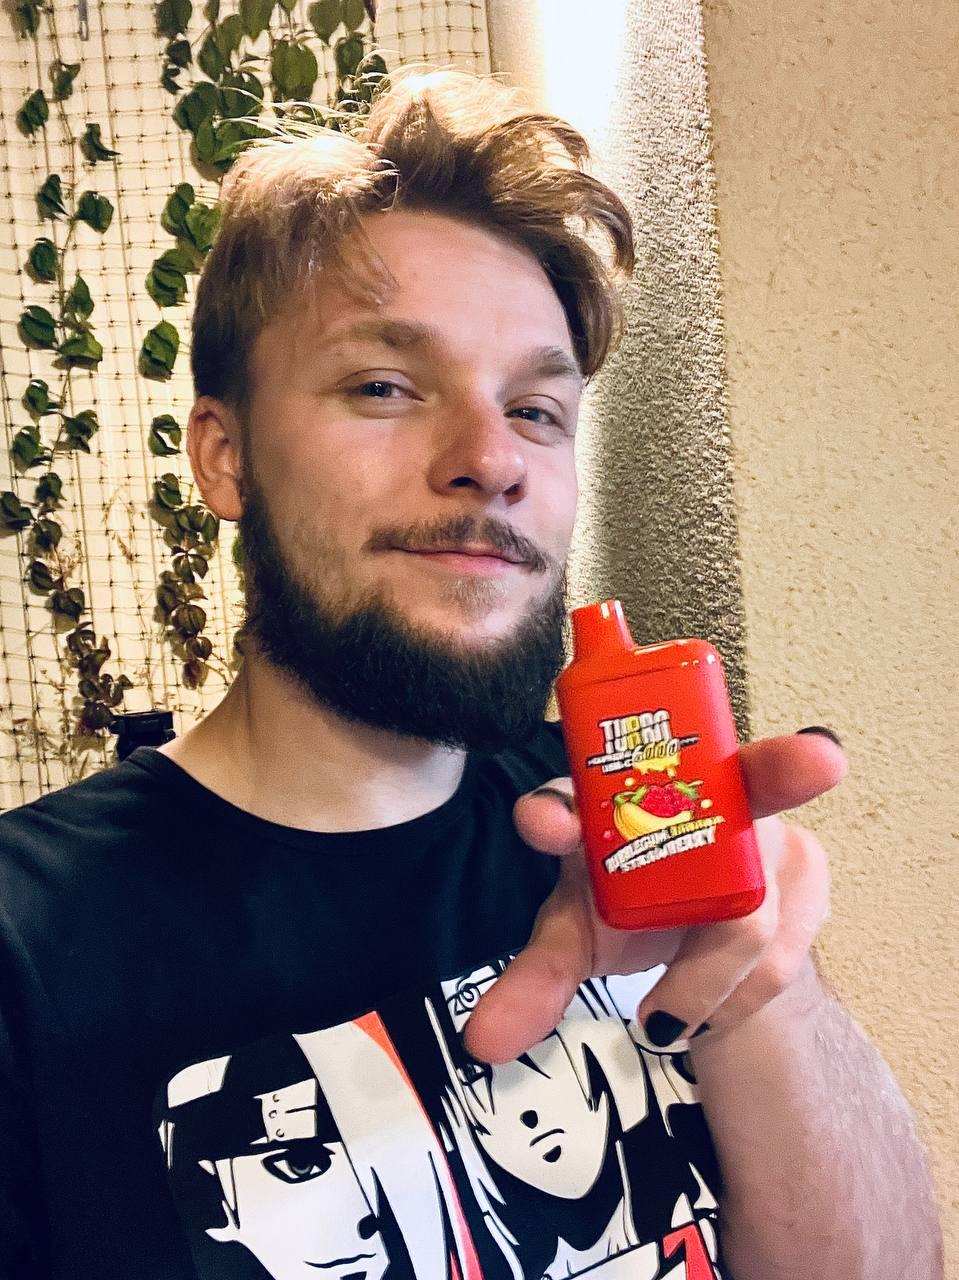Vape: (558, 601, 764, 929)
